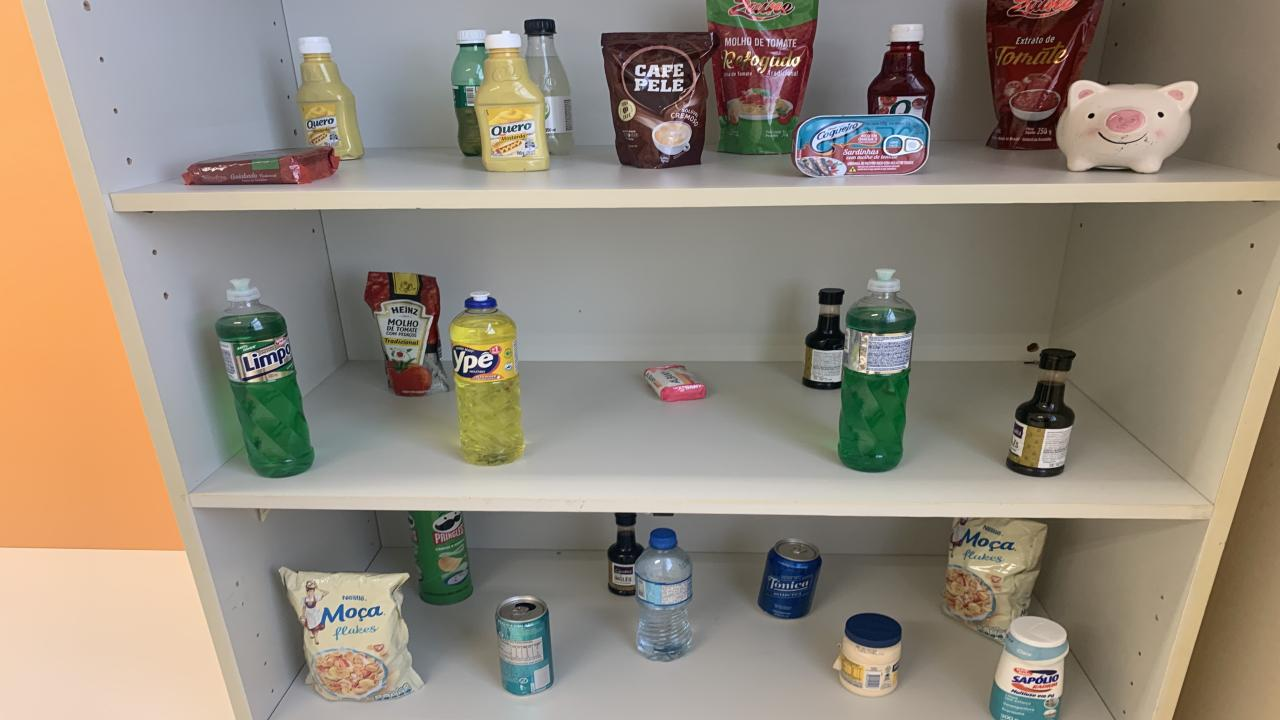Cleaner-Cleanup_Items: (990, 617, 1070, 718)
Coffee-Pantry_Items: (600, 32, 718, 169)
Detergent-Cleanup_Items: (215, 278, 315, 478), (838, 268, 915, 472), (450, 292, 525, 465)
English_Sauce-Pantry_Items: (1008, 349, 1075, 476), (802, 289, 845, 390), (608, 512, 645, 596)
Flakes-Snacks: (280, 568, 422, 701), (942, 518, 1048, 641)
Guarana-Drinks: (450, 30, 488, 156)
Guava-Snacks: (182, 146, 340, 186)
Ketchup-Pantry_Items: (868, 24, 935, 122)
Mayonnaise-Pantry_Items: (835, 613, 902, 698)
Mustard-Pantry_Items: (475, 32, 550, 172), (298, 38, 362, 159)
Pig_Safe-Miscellaneous: (1058, 81, 1198, 172)
Pringles-Snacks: (408, 512, 472, 606)
Soap-Cleanup_Items: (645, 366, 705, 401)
Soda-Drinks: (525, 19, 572, 154)
Tea-Drinks: (495, 596, 552, 696)
Tomato_Sauce-Pantry_Items: (985, 0, 1102, 150), (708, 0, 818, 154), (365, 272, 450, 396)
Tonic-Drinks: (758, 538, 822, 619)
Tuna_Can-Pantry_Items: (792, 114, 930, 176)
Water_Bottle-Drinks: (635, 529, 692, 662)
